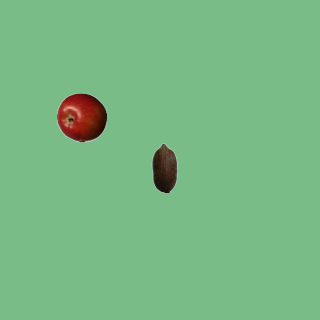Apple Braeburn: (56, 92, 106, 142)
Nut Pecan: (139, 142, 189, 192)
